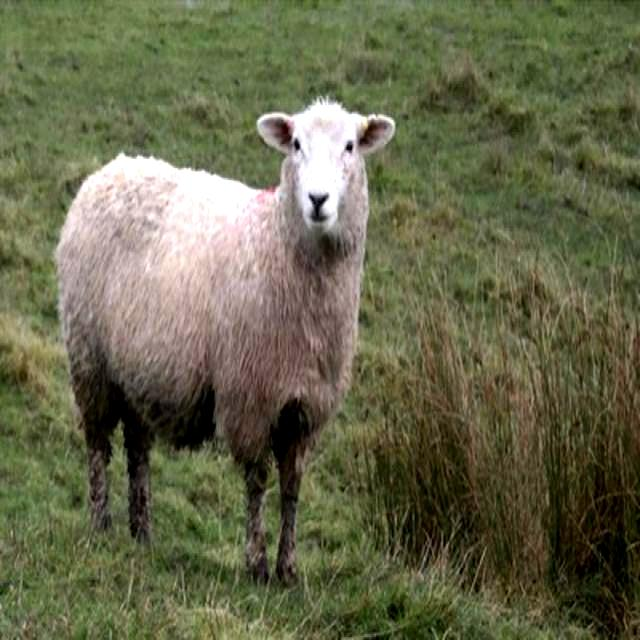sheep: (52, 100, 395, 580)
